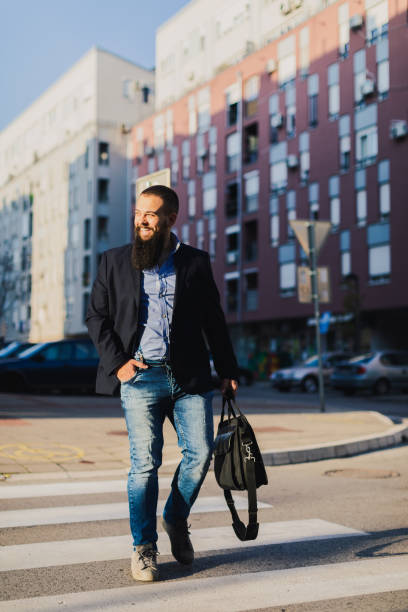yaya: (78, 179, 280, 577)
